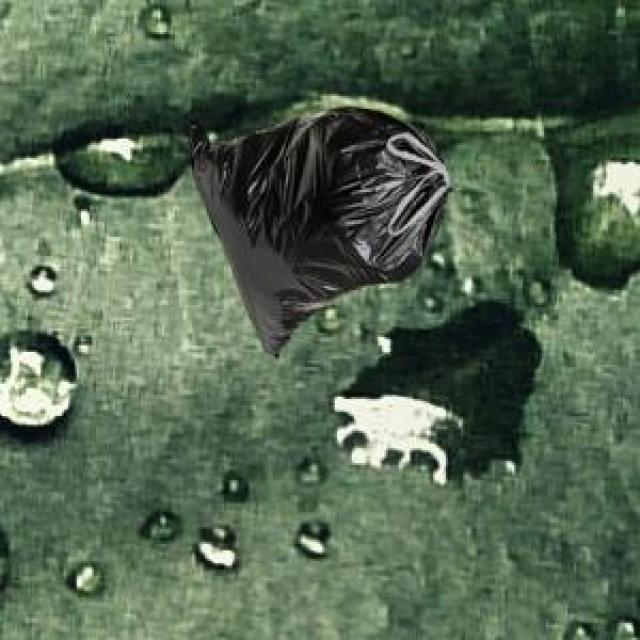waste: (192, 108, 450, 354)
